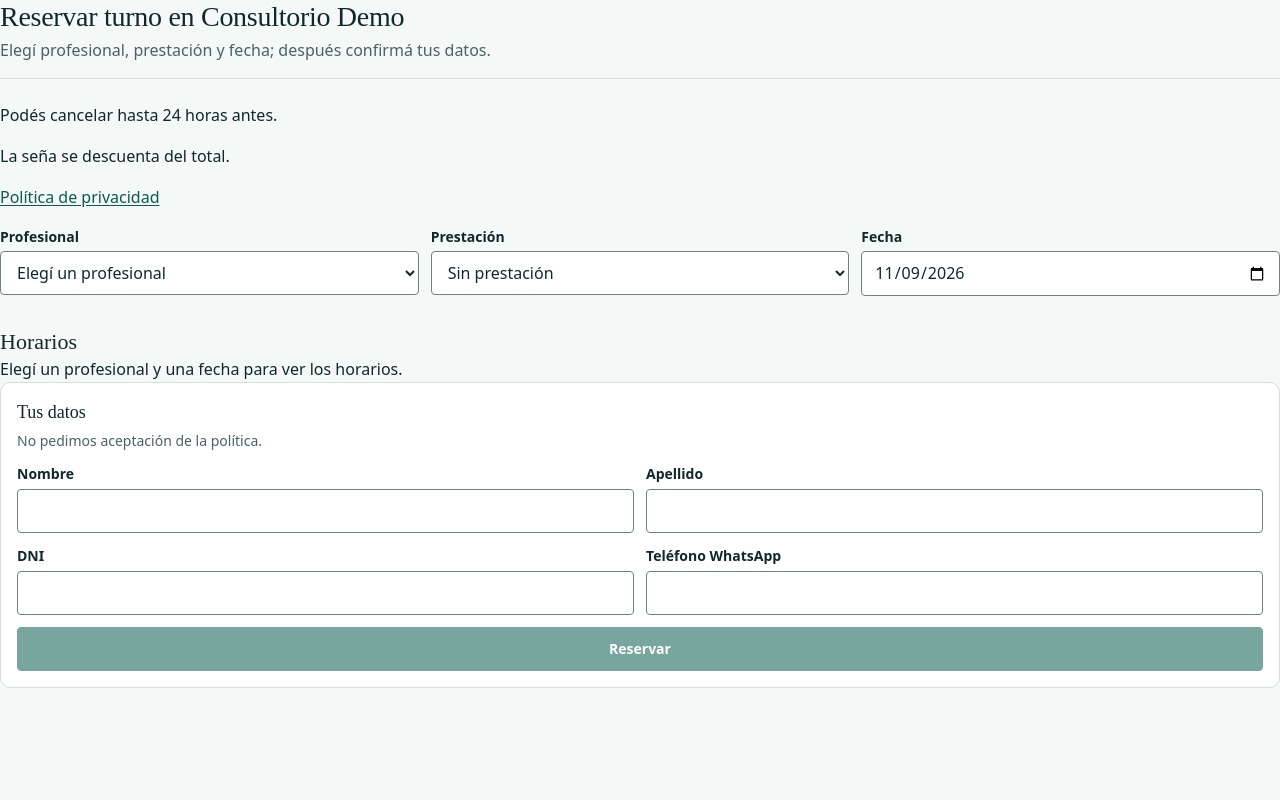
Test case: ReservaPage › muestra el enlace de gestión tras reservar
Select "MP-1 (general)" in the dropdown labelled "Profesional" at {"x": 209, "y": 274}, box [0,252,419,296]
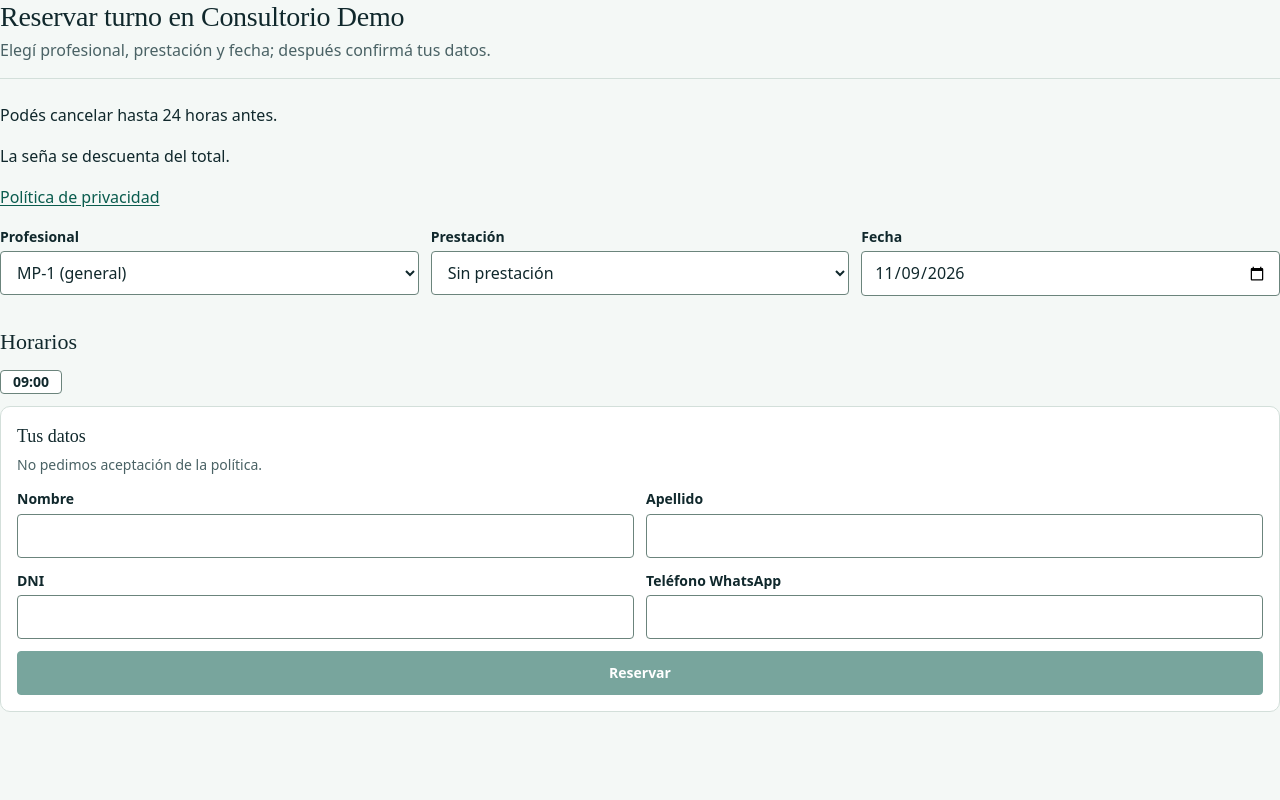
Click the button "09:00" at {"x": 31, "y": 382}, box [0,370,62,394]
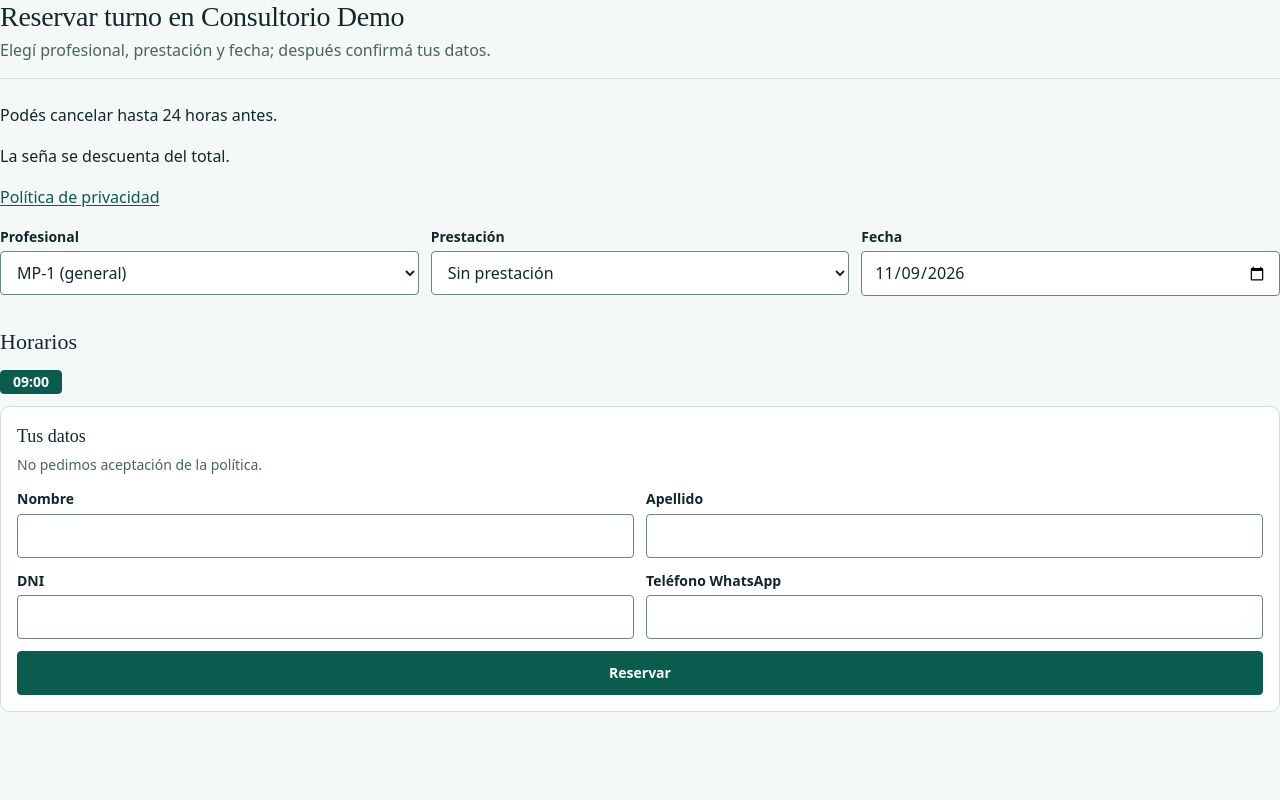
Type "Ana" into the field labelled "Nombre" at {"x": 326, "y": 536}, box [17,514,634,558]
Type "Demo" into the field labelled "Apellido" at {"x": 954, "y": 536}, box [646,514,1263,558]
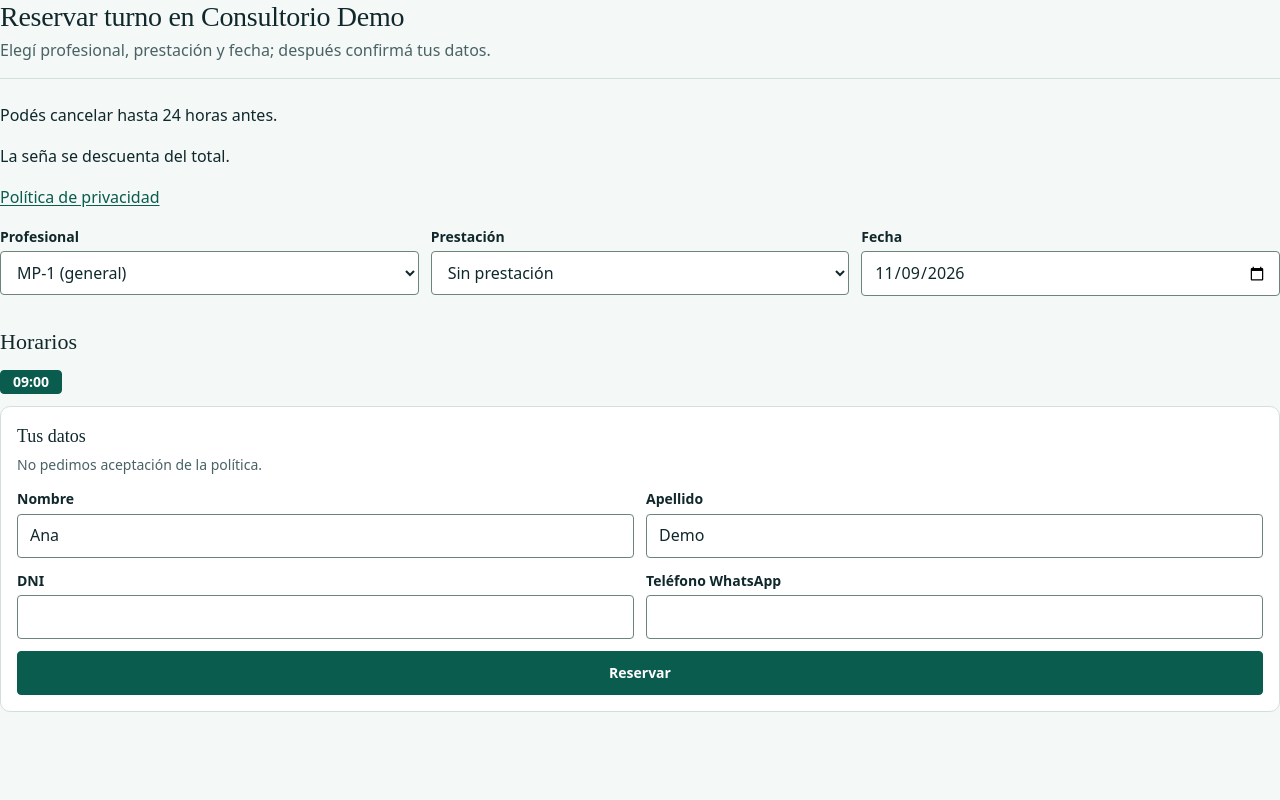
Type "30111222" into the field labelled "DNI" at {"x": 326, "y": 617}, box [17,595,634,639]
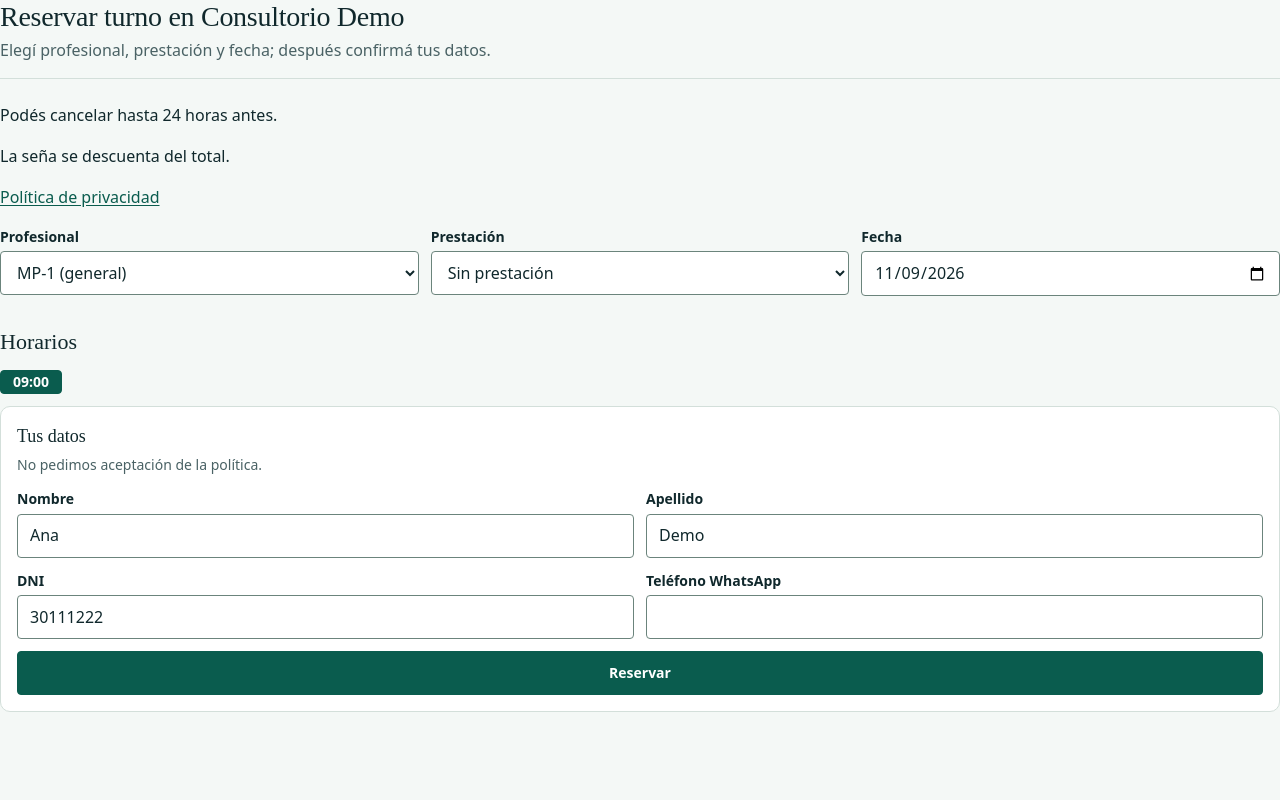
Type "11 5555-1234" into the field labelled "Teléfono WhatsApp" at {"x": 954, "y": 617}, box [646,595,1263,639]
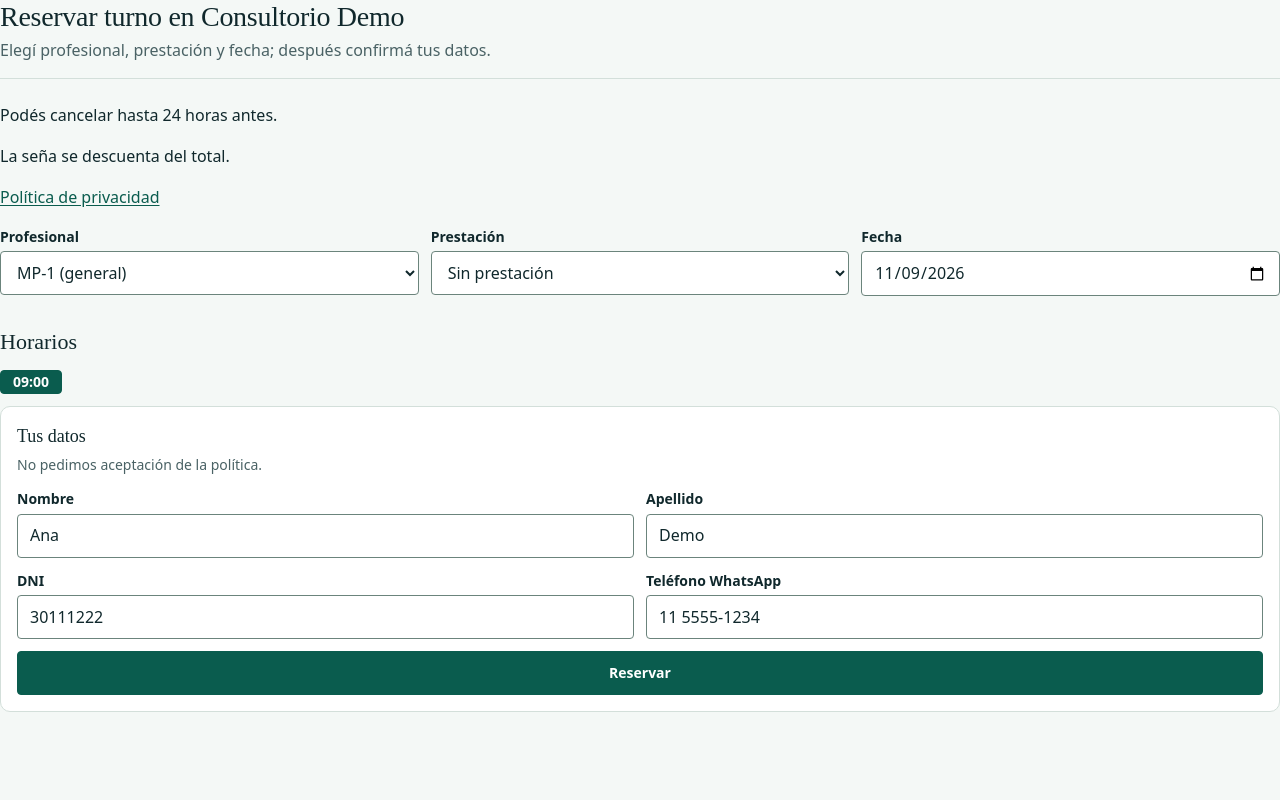
Click the button "Reservar" at {"x": 640, "y": 673}, box [17,651,1263,695]
(page scrolled)
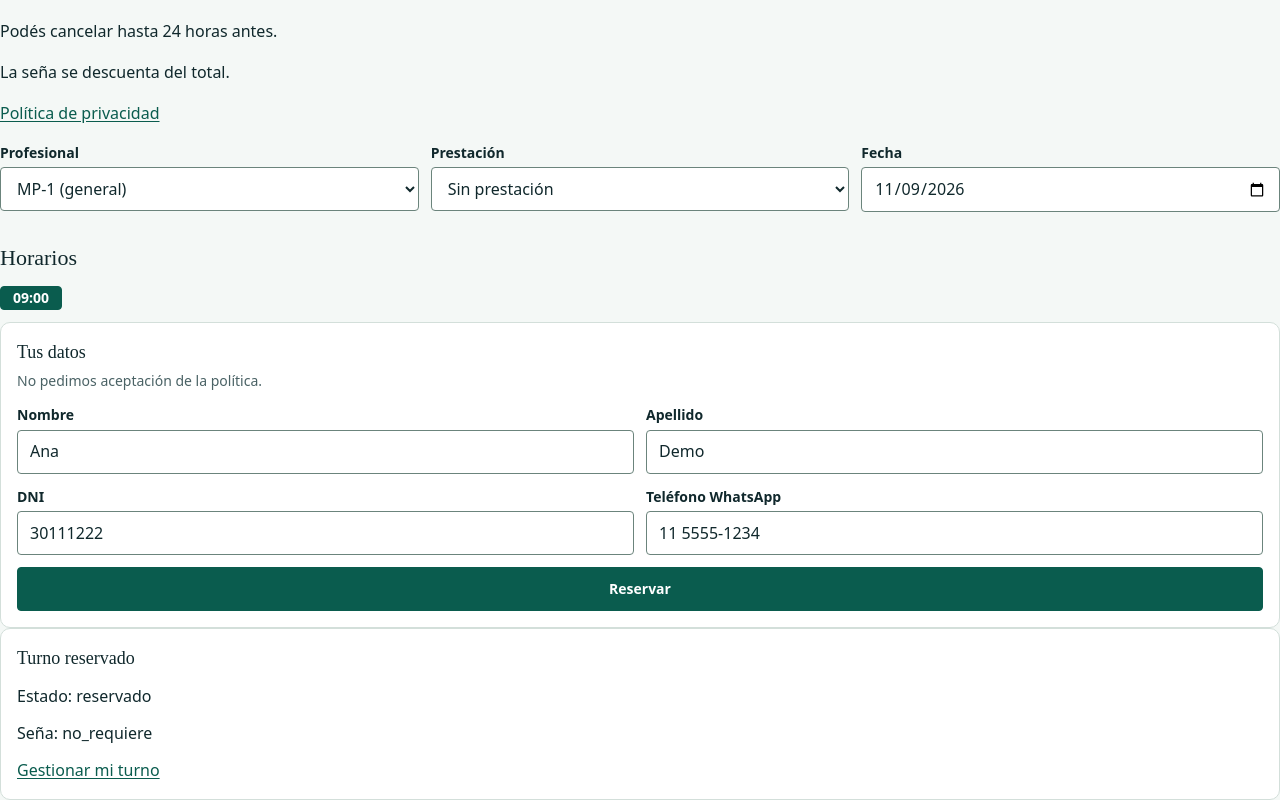
Expected: the heading "Turno reservado" is shown, [17,645,135,672]
Expected: the link "Gestionar mi turno" is shown, [17,759,160,781]
